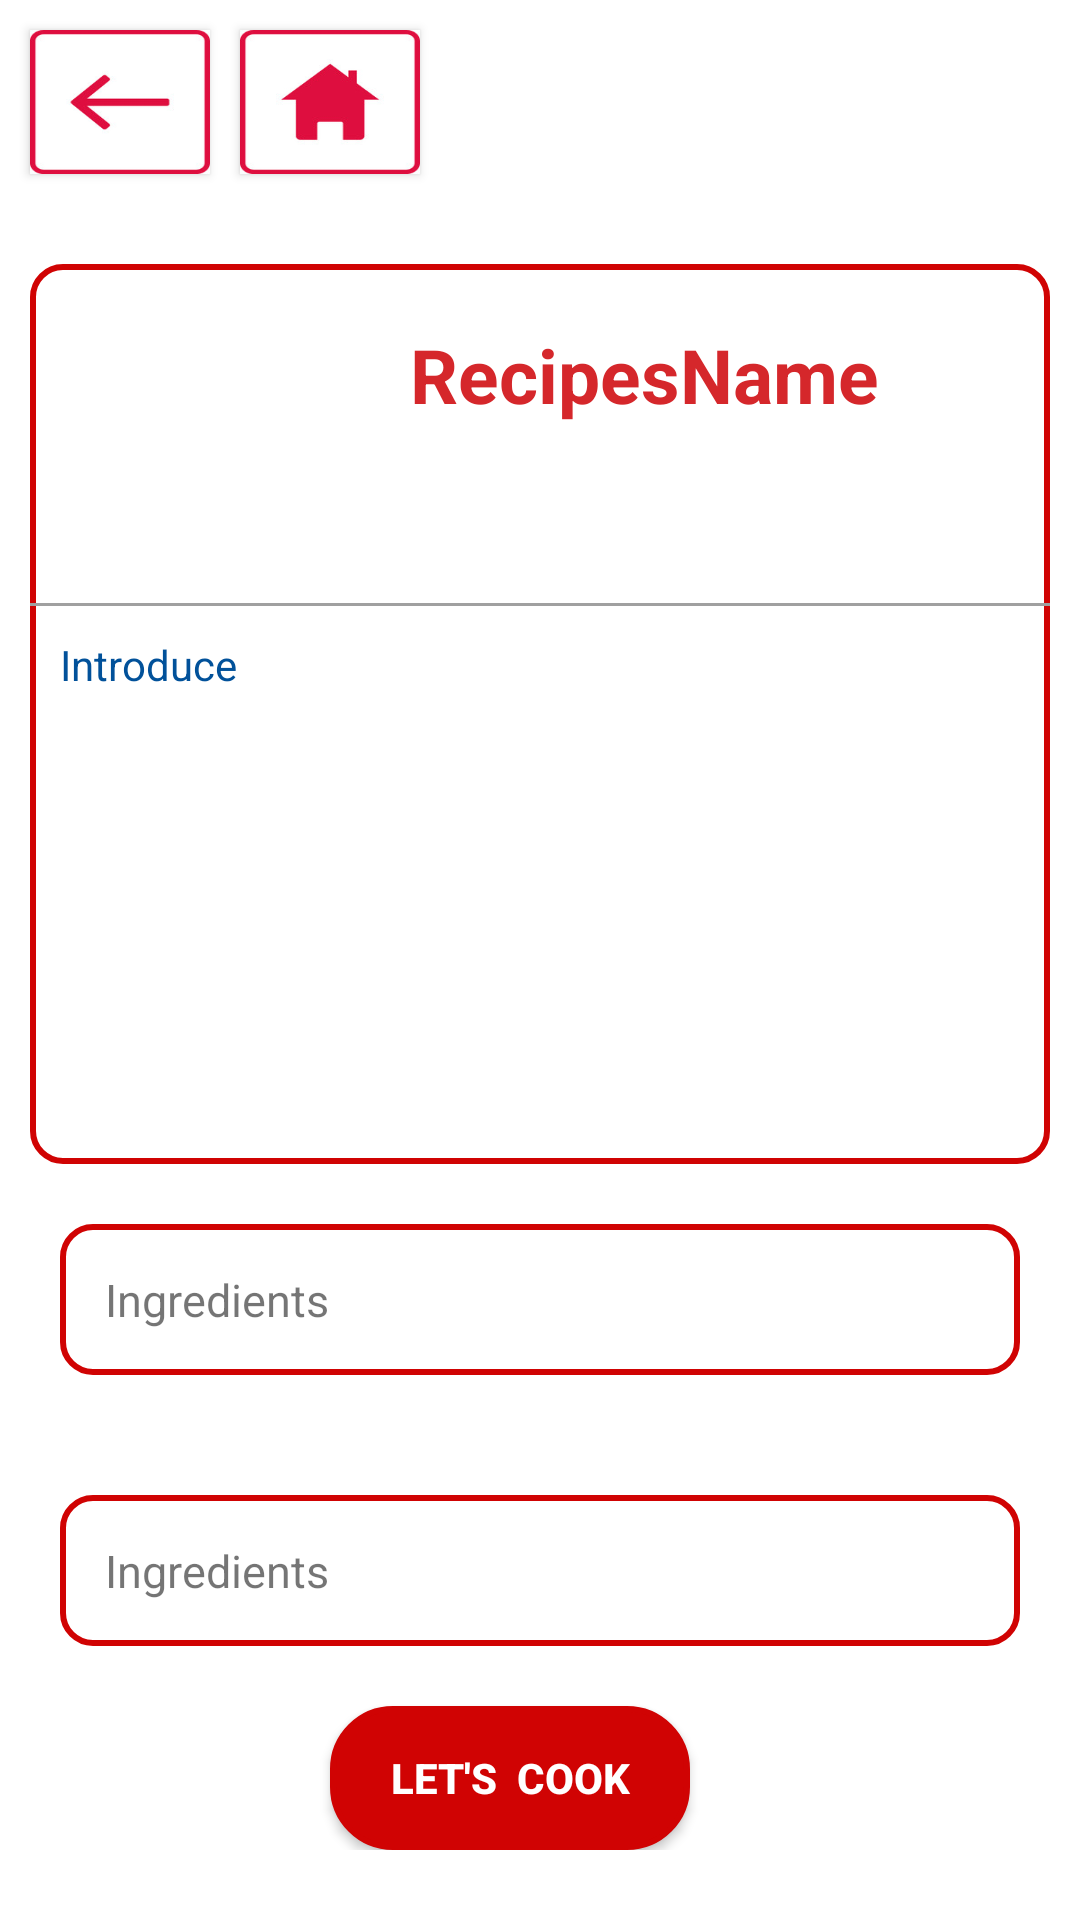

Point at icon controls on the screen. Image size 1080x1920, points as [x,y].
back: [120,102]
